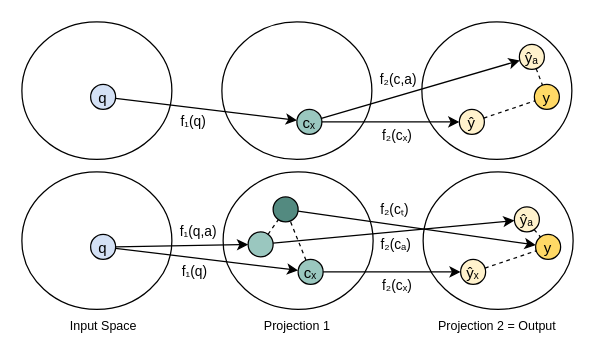
This 595x360 diagram has some shape labels left out. Here are the shapes that lost their labels. From the top down, the centre of each, then its label:
pixel 285 209: cₜ
pixel 260 244: cₐ
